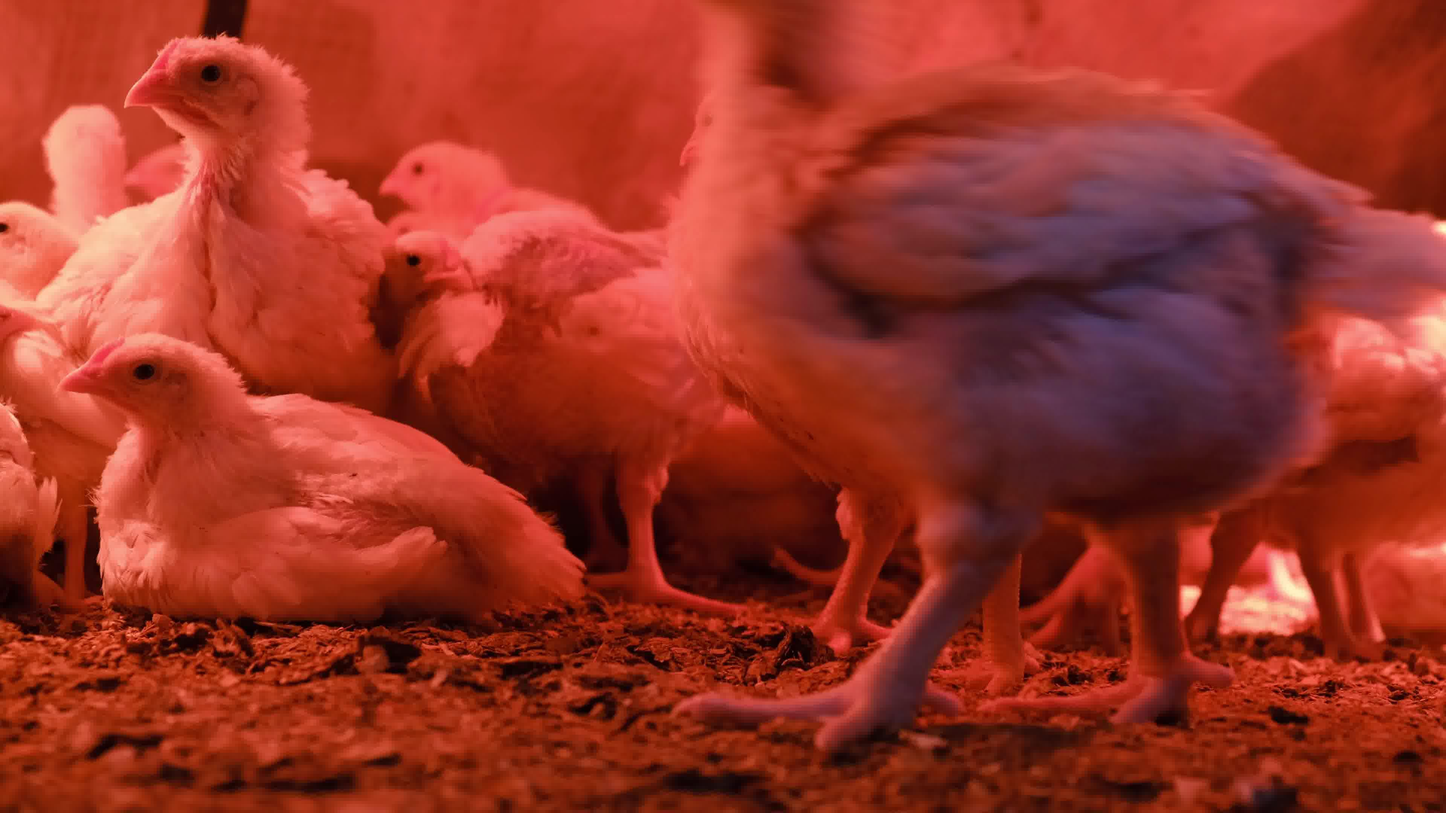AbNormal: (53, 292, 601, 672), (4, 265, 104, 653)
Normal: (672, 4, 1352, 751), (427, 181, 757, 649), (56, 49, 390, 337), (373, 109, 531, 248), (0, 166, 107, 320), (111, 122, 254, 235), (9, 85, 139, 209), (375, 218, 493, 326)
